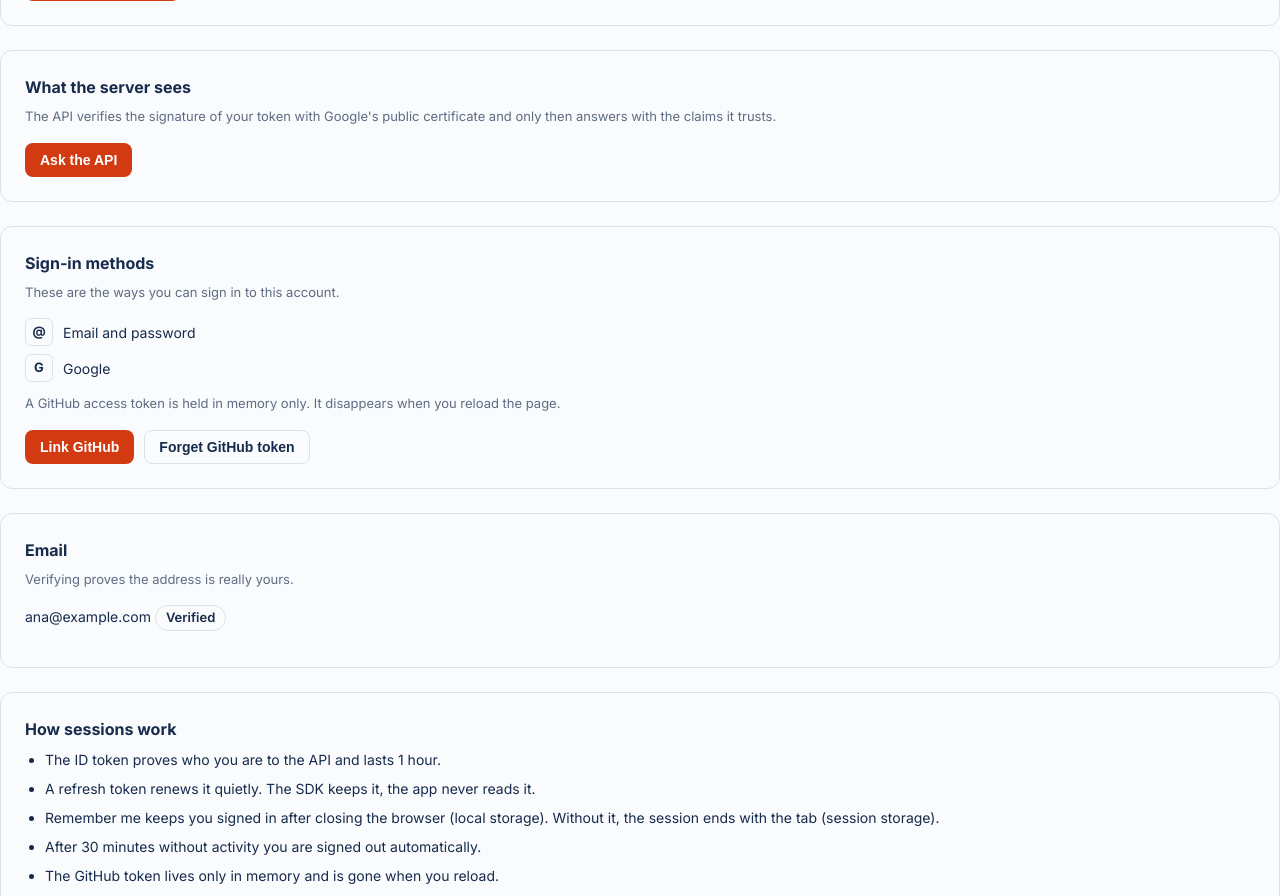
it: SecurityPanel: Sign-in methods › Forget GitHub token appears only when connected and disconnects
This screenshot has width=1280, height=896.
(page scrolled)
Click the button "Forget GitHub token": click(227, 446) left=144, top=430, right=310, bottom=464
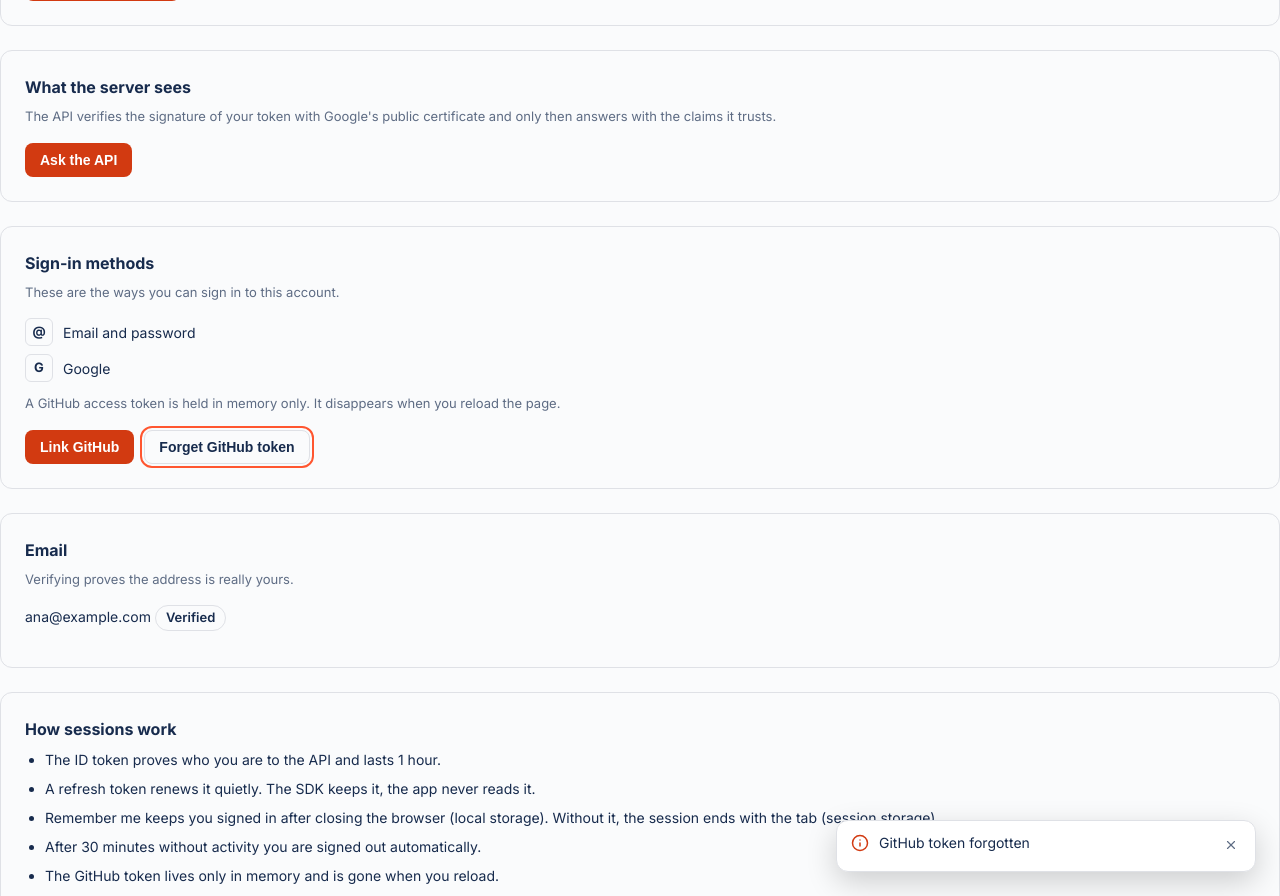
Result: the text "GitHub token forgotten" is shown at left=879, top=834, right=1030, bottom=851
